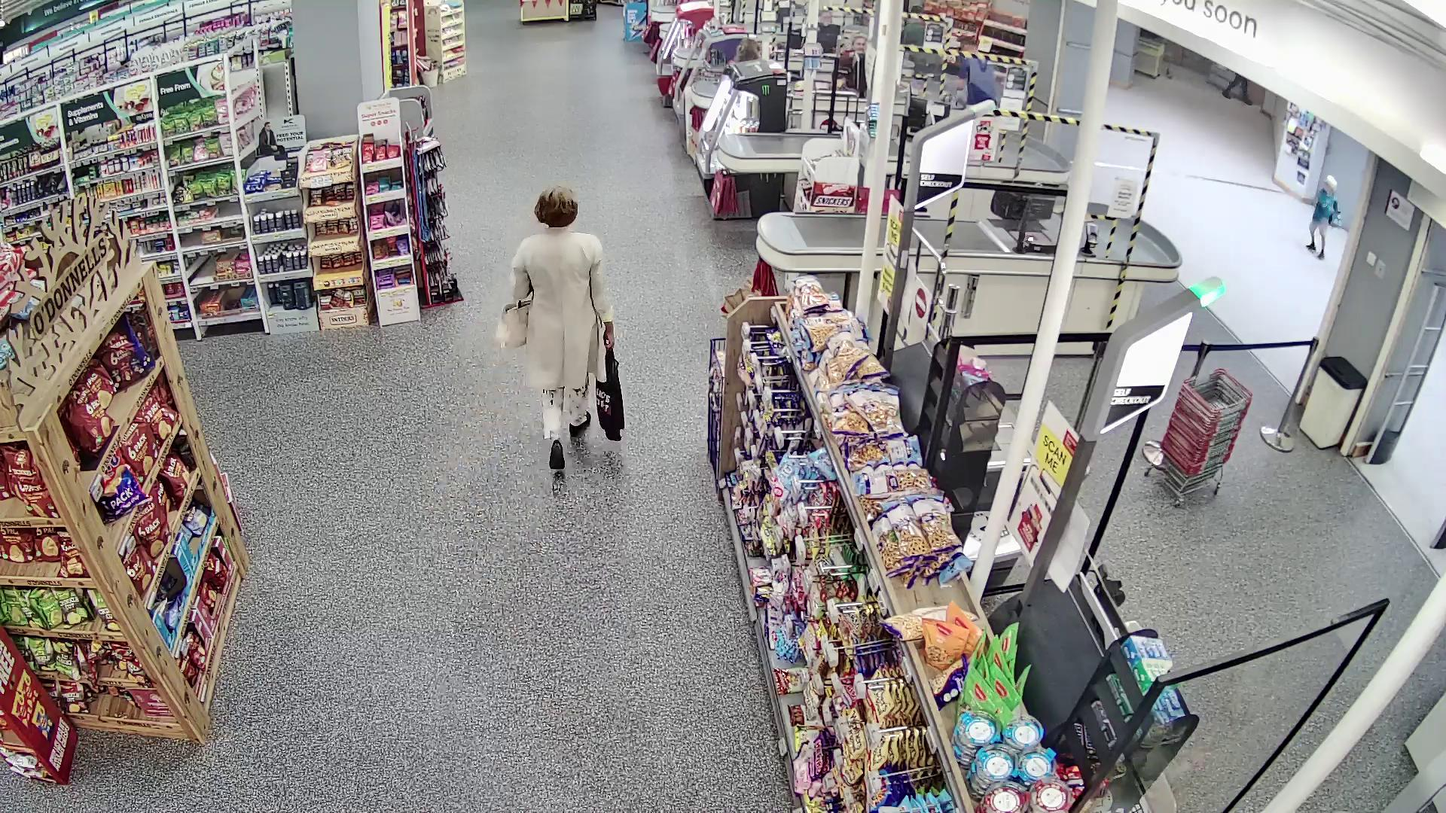backpack-or-handbag: (495, 298, 536, 350)
filled-shopping-bags: (595, 348, 626, 440)
person: (509, 182, 615, 469)
person-with-backpack-handbag-and-shopping-bag-s-: (495, 182, 627, 471)
